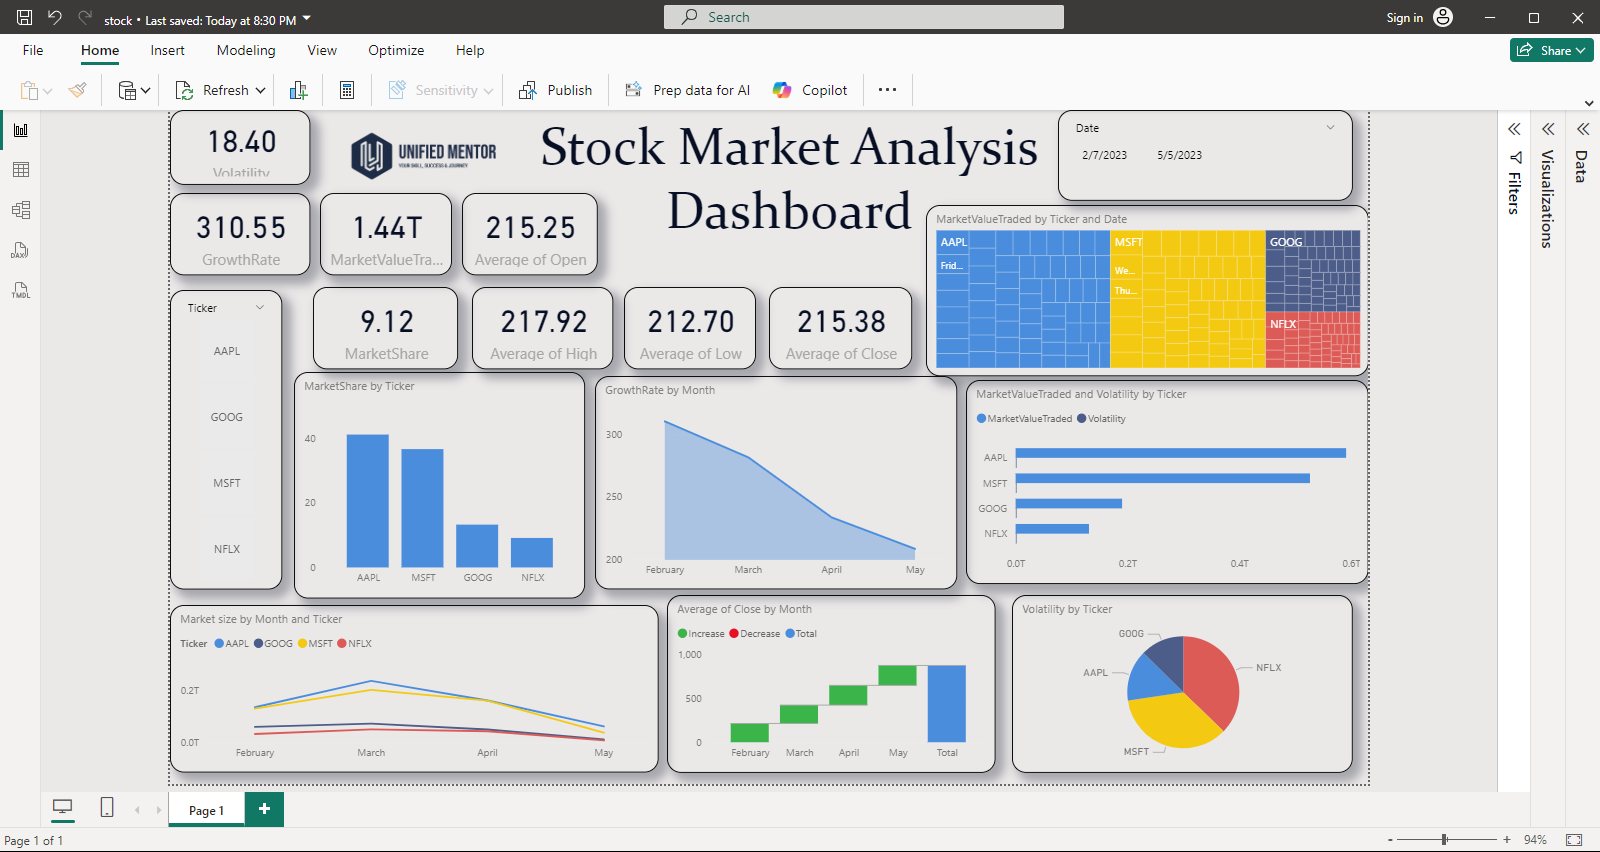

The page's visual inventory and layout, read from the dashboard file:
{"tool":"powerbi","page":{"name":"Page 1","canvas":[1280,720],"ordinal":0},"visuals":[{"type":"lineChart","fields":{"Y":["stocks.Market size"],"Category":["stocks.Date.Variation.Date Hierarchy.Month"],"Series":["stocks.Ticker"]},"box":[0,528.7,522.1,179.3],"z":0},{"type":"columnChart","fields":{"Y":["stocks.MarketShare"],"Category":["stocks.Ticker"]},"box":[132.8,280.3,310.8,241.8],"z":1000},{"type":"areaChart","fields":{"Category":["stocks.Date.Variation.Date Hierarchy.Month","stocks.Date.Variation.Date Hierarchy.Day"],"Y":["stocks.GrowthRate"]},"box":[454.3,284.3,386.6,228.5],"z":2000},{"type":"clusteredBarChart","fields":{"Category":["stocks.Ticker"],"Y":["stocks.MarketValueTraded","stocks.Volatility"]},"box":[850.2,288.3,430.4,217.9],"z":3000},{"type":"waterfallChart","fields":{"Category":["stocks.Date.Variation.Date Hierarchy.Month"],"Y":["Avg(stocks.Close)"]},"box":[531.4,518.1,350.7,190],"z":4000},{"type":"treemap","fields":{"Group":["stocks.Ticker"],"Values":["stocks.MarketValueTraded"],"Details":["stocks.Date"]},"box":[807.7,101,472.9,183.3],"z":5000},{"type":"slicer","fields":{"Values":["stocks.Ticker"]},"box":[0,192.6,119.6,320.1],"z":6000},{"type":"pieChart","fields":{"Y":["stocks.Volatility"],"Category":["stocks.Ticker"]},"box":[899.3,518.1,364,190],"z":8000},{"type":"card","fields":{"Values":["stocks.MarketValueTraded"]},"box":[160.7,89,140.8,87.7],"z":9000},{"type":"card","fields":{"Values":["stocks.MarketShare"]},"box":[152.8,188.6,155.4,87.7],"z":10000},{"type":"card","fields":{"Values":["stocks.Volatility"]},"box":[0,0,150.2,80.4],"z":11000},{"type":"card","fields":{"Values":["stocks.GrowthRate"]},"box":[0,89,150.1,87.7],"z":12000},{"type":"image","box":[187.3,10.6,167.4,77],"z":12001},{"type":"slicer","fields":{"Values":["stocks.Date"]},"box":[948.5,0,314.8,97],"z":12002},{"type":"textbox","box":[375.3,0,573.6,154.1],"z":12003},{"type":"card","fields":{"Values":["Avg(stocks.High)"]},"box":[322.8,188.6,151.4,87.7],"z":12004},{"type":"card","fields":{"Values":["Avg(stocks.Low)"]},"box":[484.9,188.6,140.8,87.7],"z":12005},{"type":"card","fields":{"Values":["Avg(stocks.Open)"]},"box":[312.2,89,144.8,87.7],"z":12006},{"type":"card","fields":{"Values":["Avg(stocks.Close)"]},"box":[640.3,188.6,152.8,87.7],"z":12007}]}

Visuals, with their boxes on the page's 1280x720 design canvas (x1, y1, x2, y2). These are canvas units, not pixel positions in the 1600x852 screenshot, which may show the page scaled, cropped or inside an application window:
lineChart - stocks.Market size x stocks.Date.Variation.Date Hierarchy.Month: <region>0, 529, 522, 708</region>
columnChart - stocks.MarketShare x stocks.Ticker: <region>133, 280, 444, 522</region>
areaChart - stocks.Date.Variation.Date Hierarchy.Month x stocks.Date.Variation.Date Hierarchy.Day: <region>454, 284, 841, 513</region>
clusteredBarChart - stocks.Ticker x stocks.MarketValueTraded: <region>850, 288, 1281, 506</region>
waterfallChart - stocks.Date.Variation.Date Hierarchy.Month x Avg(stocks.Close): <region>531, 518, 882, 708</region>
treemap - stocks.Ticker x stocks.MarketValueTraded: <region>808, 101, 1281, 284</region>
slicer - stocks.Ticker: <region>0, 193, 120, 513</region>
pieChart - stocks.Volatility x stocks.Ticker: <region>899, 518, 1263, 708</region>
card - stocks.MarketValueTraded: <region>161, 89, 302, 177</region>
card - stocks.MarketShare: <region>153, 189, 308, 276</region>
card - stocks.Volatility: <region>0, 0, 150, 80</region>
card - stocks.GrowthRate: <region>0, 89, 150, 177</region>
image: <region>187, 11, 355, 88</region>
slicer - stocks.Date: <region>948, 0, 1263, 97</region>
textbox: <region>375, 0, 949, 154</region>
card - Avg(stocks.High): <region>323, 189, 474, 276</region>
card - Avg(stocks.Low): <region>485, 189, 626, 276</region>
card - Avg(stocks.Open): <region>312, 89, 457, 177</region>
card - Avg(stocks.Close): <region>640, 189, 793, 276</region>
